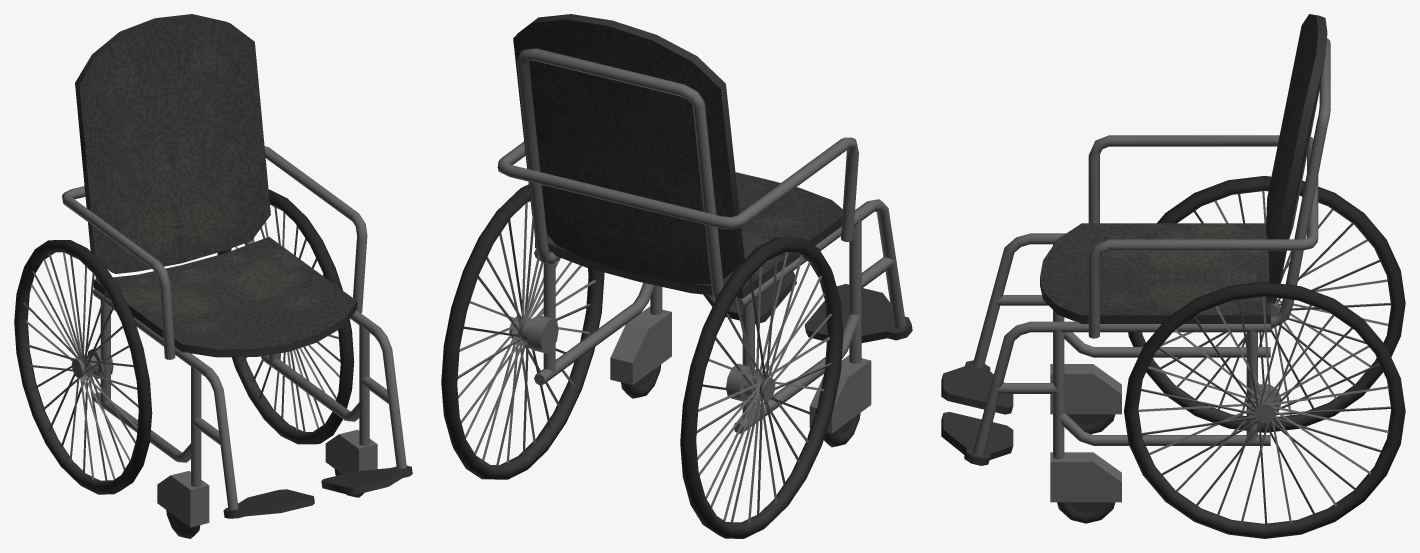
The model's file is Rollstuhl.fbx.
3 views of the same model, side by side, from view 1: azimuth 30°, elevation 25°; view 2: azimuth 150°, elevation 25°; view 3: azimuth 270°, elevation 25° (orthographic). The views are drawn at different scales.
Visible parts, largest first — view 1: Circle.001; view 2: Circle.001; view 3: Circle.001.
Part boxes in pixels (x1,y1,x2,y2): Circle.001: (14, 14, 412, 538); Circle.001: (441, 14, 912, 538); Circle.001: (941, 14, 1405, 538).
Size of the model in its own units: 454 by 854 by 791.
1 material, 1 textured.
